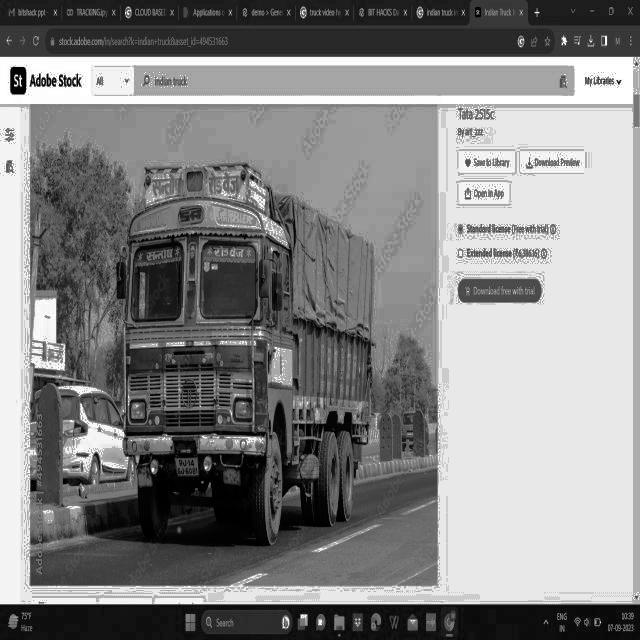HCV: (118, 131, 403, 565)
